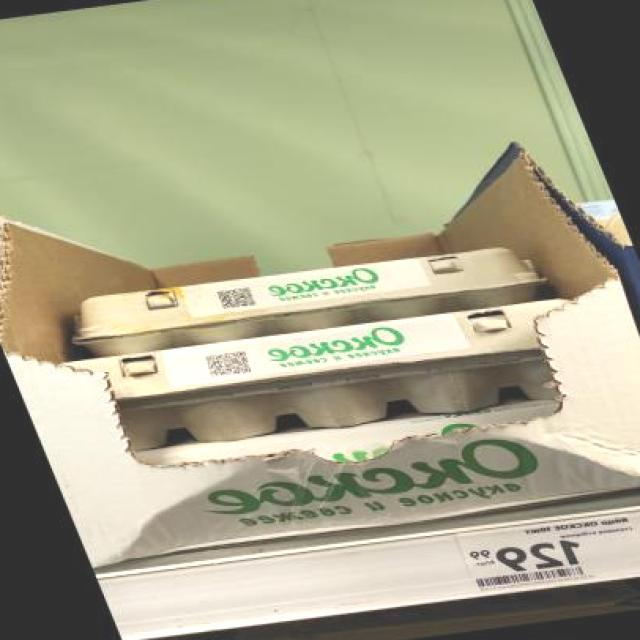Eggs: (55, 298, 604, 457), (57, 241, 547, 361)
